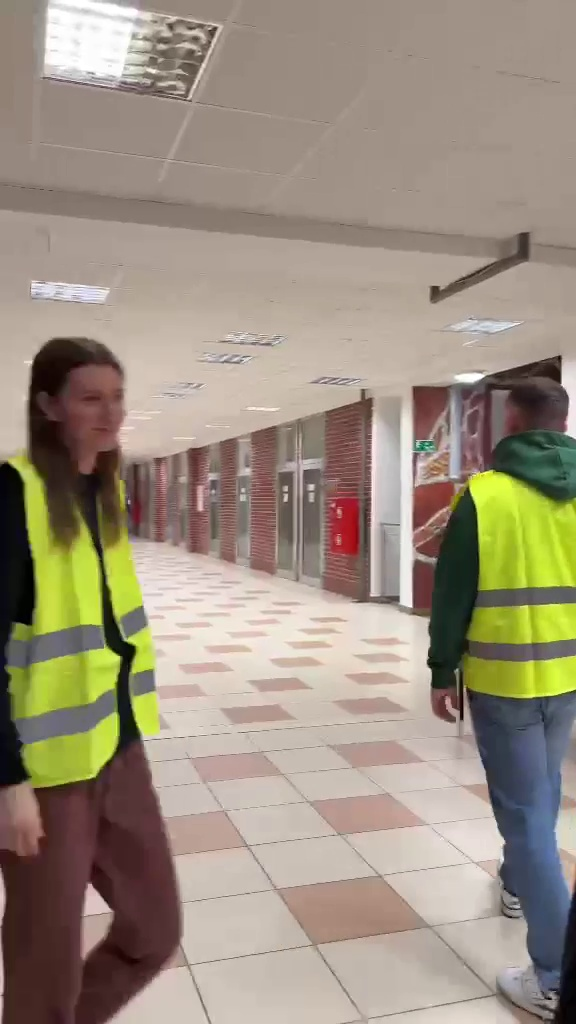vest: (0, 326, 196, 1024), (423, 367, 576, 1018)
